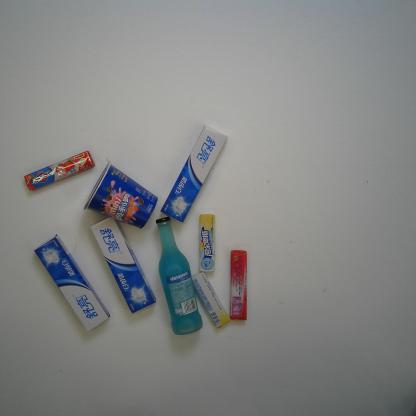Alcohol: (155, 216, 203, 336)
Candy: (24, 150, 96, 192), (191, 271, 231, 328), (230, 249, 247, 321), (199, 213, 217, 272)
Dessert: (83, 157, 158, 230)
Personal Hygiene: (34, 234, 110, 333), (160, 125, 228, 224), (90, 216, 156, 315)
